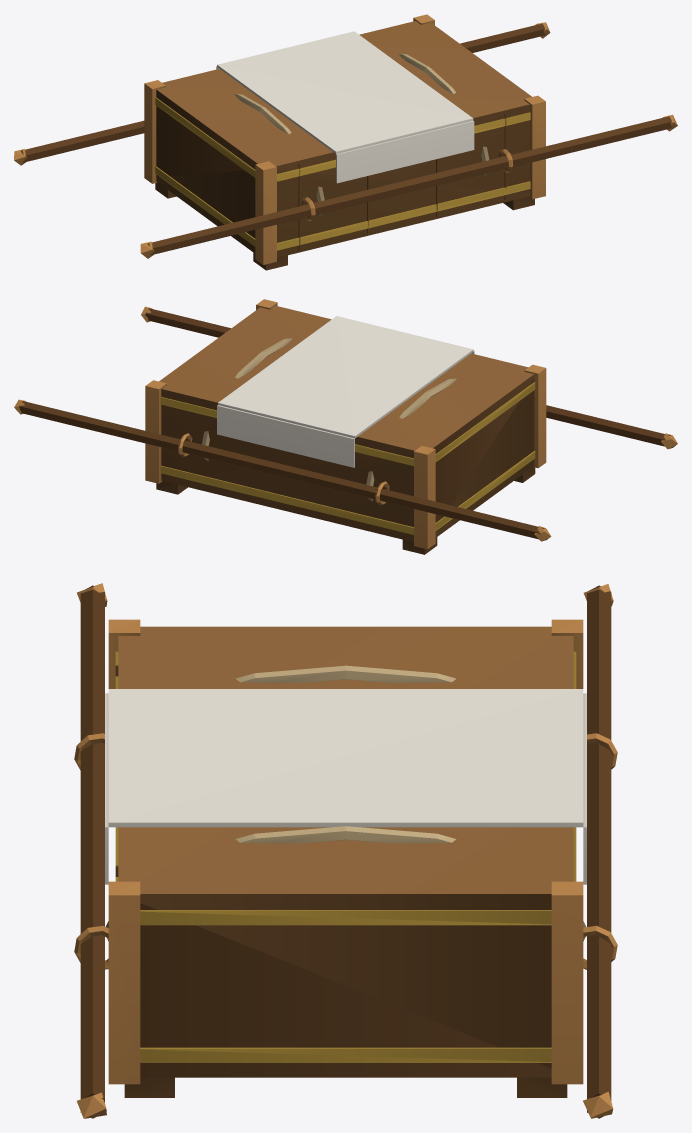
3 renders of one model, top to bottom at view 1: azimuth 30°, elevation 25°; view 2: azimuth 150°, elevation 25°; view 3: azimuth 270°, elevation 25°, orthographic. The views are drawn at different scales.
Visible parts, largest first — view 1: base; view 2: base; view 3: base.
Part boxes in pixels (<box>): base: <box>14,14,677,270</box>; base: <box>14,299,677,554</box>; base: <box>74,583,617,1118</box>.
Size of the model in its own units: 1.95 by 0.3826 by 0.8589.
